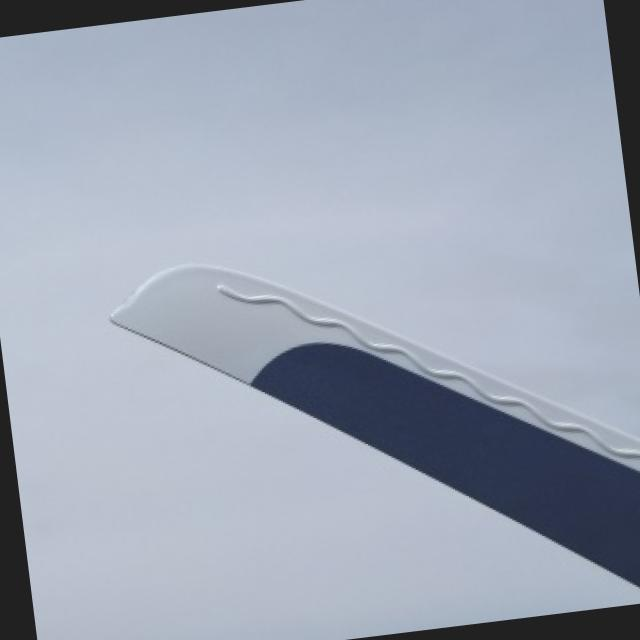healthy: (111, 262, 640, 599)
